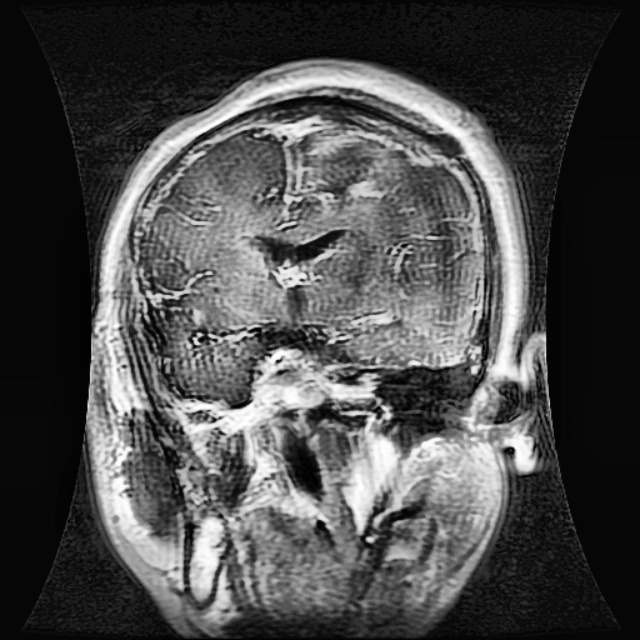Meningioma: (279, 125, 393, 205)
